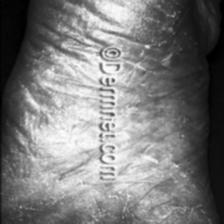Toxin: (140, 48, 178, 70)
